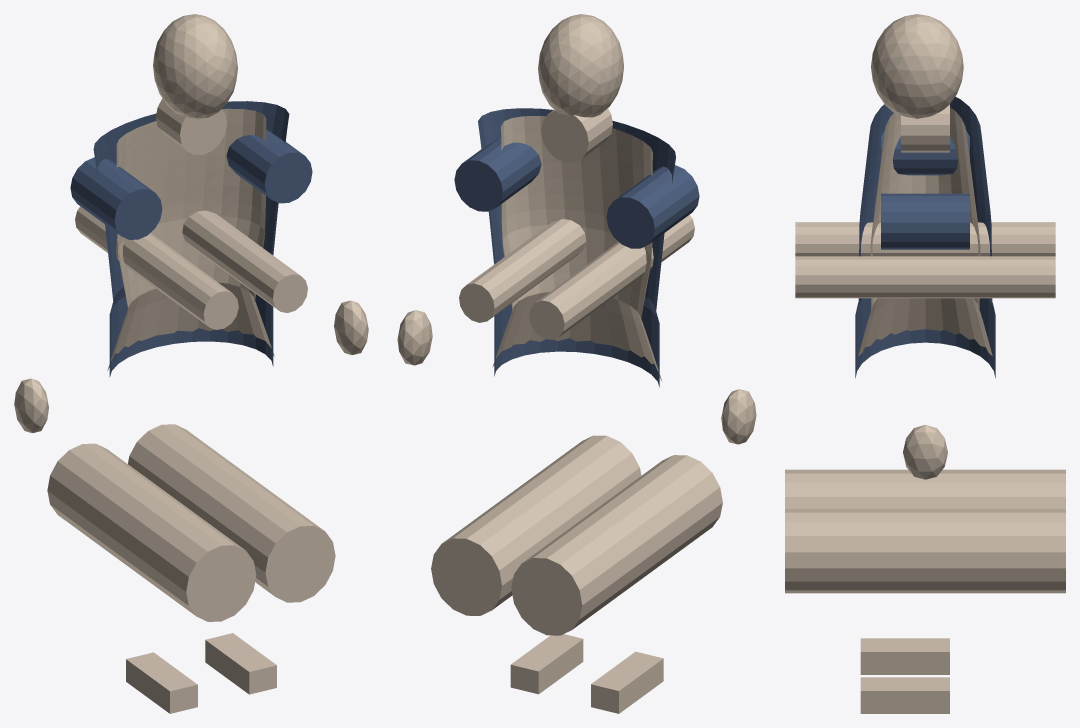
Rendered from tryon_perfect_550a703163.glb.
The picture shows the model from 3 angles, left to right: view 1: azimuth 30°, elevation 25°; view 2: azimuth 150°, elevation 25°; view 3: azimuth 270°, elevation 25°; orthographic projection.
Parts seen in each view (by area): view 1: body_mesh, garment_mesh; view 2: body_mesh, garment_mesh; view 3: body_mesh, garment_mesh.
Boxes of the visible parts, x1,y1,x2,y2 form: body_mesh: [14, 14, 368, 713]; garment_mesh: [70, 101, 312, 377]; body_mesh: [397, 14, 756, 713]; garment_mesh: [454, 108, 699, 387]; body_mesh: [785, 14, 1065, 713]; garment_mesh: [855, 96, 995, 378].
Size of the model in its own units: 0.9982 by 1.82 by 0.6921.
